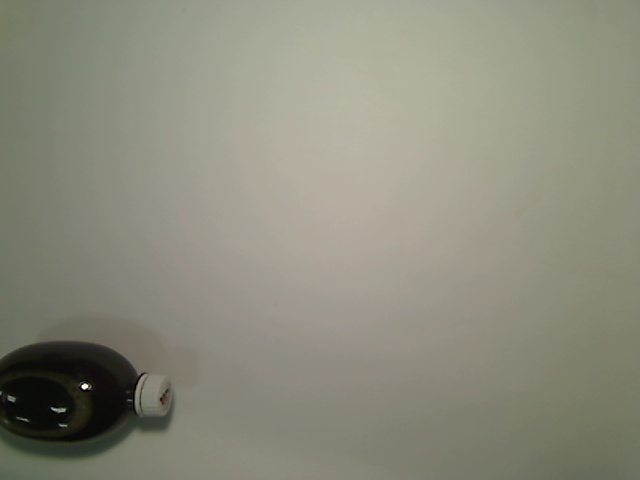plast_bottle: (1, 340, 176, 447)
